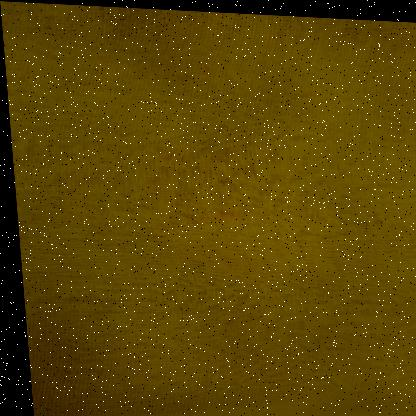spot: (208, 205, 244, 216)
